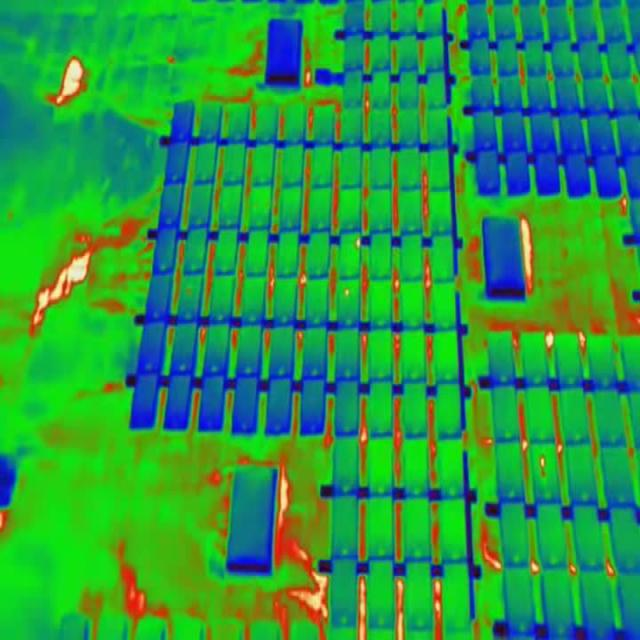Orange-Spots: (540, 453, 546, 481), (355, 236, 360, 249), (345, 289, 349, 296)
